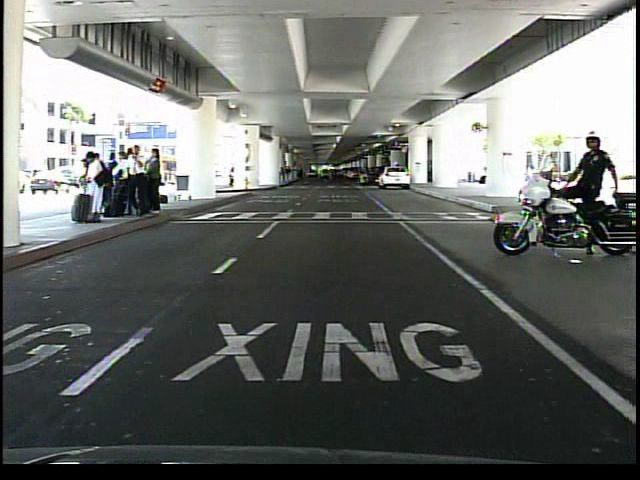person: (564, 129, 617, 262)
